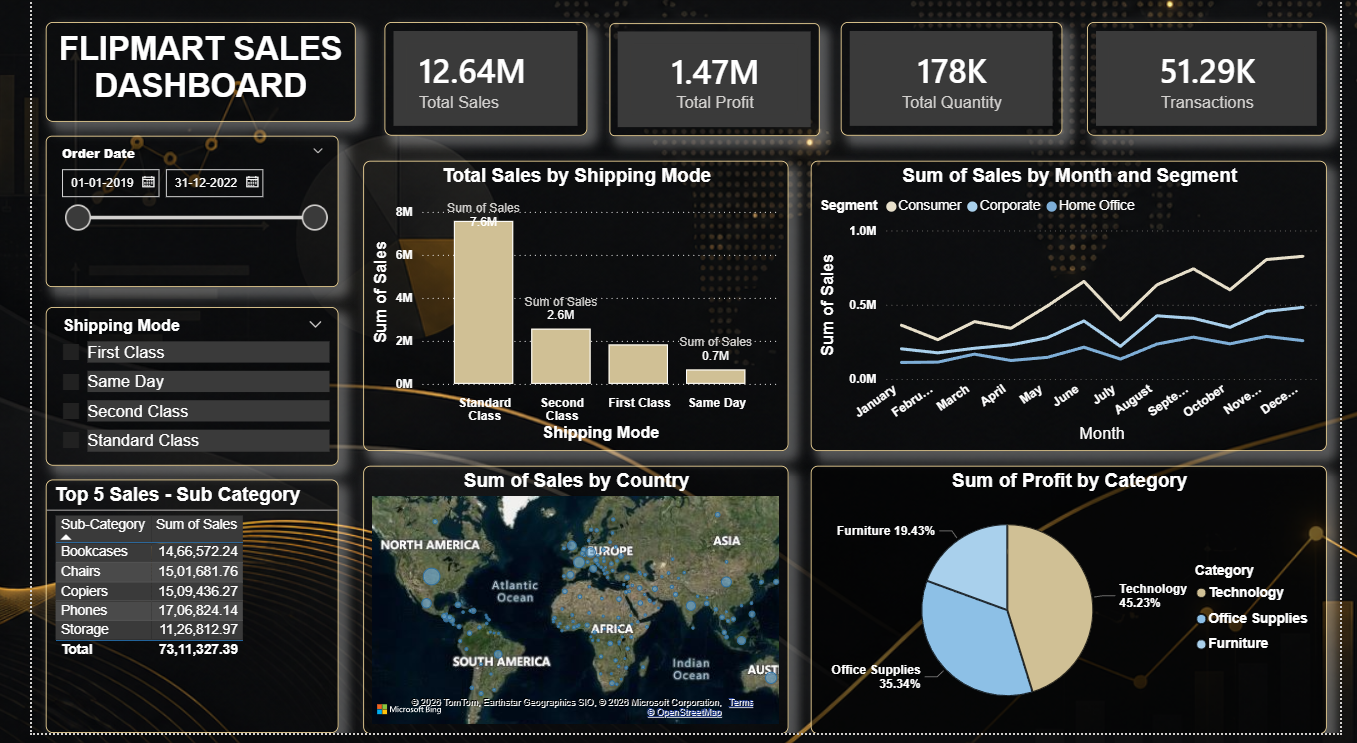

What the dashboard file says about the page in this screenshot:
{"tool":"powerbi","page":{"name":"Page 1","canvas":[1280,720],"ordinal":0},"visuals":[{"type":"textbox","box":[13.7,24.7,303.3,97.4],"z":0},{"type":"slicer","fields":{"Values":["Sales.Order Date"]},"box":[13.7,135.8,286.8,148.2],"z":1000},{"type":"slicer","fields":{"Values":["Sales.Shipping Mode"]},"box":[13.7,303.3,286.8,155.1],"z":2000},{"type":"tableEx","title":"Top 5 Sales - Sub Category","fields":{"Values":["Sales.Sub-Category","Sum(Sales.Sales)"]},"box":[13.7,472,286.8,248.4],"z":3000},{"type":"cardVisual","fields":{"Data":["Sum(Sales.Profit)"]},"box":[564.9,25.7,205.4,110.1],"z":4000},{"type":"cardVisual","fields":{"Data":["Sum(Sales.Quantity)"]},"box":[791.2,24.5,216.4,111.3],"z":5000},{"type":"clusteredColumnChart","title":"Total Sales by Shipping Mode","fields":{"Category":["Sales.Shipping Mode"],"Y":["Sum(Sales.Sales)"]},"box":[323.8,160.5,415.8,284],"z":6000},{"type":"lineChart","fields":{"Category":["Sales.Order Date.Variation.Date Hierarchy.Month"],"Y":["Sum(Sales.Sales)"],"Series":["Sales.Segment"]},"box":[761.6,160.5,505,284],"z":7000},{"type":"map","fields":{"Category":["Sales.Country"],"Size":["Sum(Sales.Sales)"]},"box":[323.8,458.3,415.8,262.1],"z":8000},{"type":"pieChart","fields":{"Category":["Sales.Category"],"Y":["Sum(Sales.Profit)"]},"box":[761.6,458.3,505,262.1],"z":9000},{"type":"cardVisual","fields":{"Data":["Sum(Sales.Sales)"]},"box":[344.8,24.5,198.1,111.3],"z":10000},{"type":"cardVisual","fields":{"Data":["CountNonNull(Sales.Order ID)"]},"box":[1032.1,24.5,234.8,111.3],"z":11000}]}

Visuals, with their boxes in screenshot pixels (x1, y1, x2, y2), scaled from the page's 1280x720 canvas onto the 1357x743 screenshot:
textbox: 15/25/336/126
slicer - Sales.Order Date: 15/140/319/293
slicer - Sales.Shipping Mode: 15/313/319/473
"Top 5 Sales - Sub Category" tableEx: 15/487/319/742
cardVisual - Sum(Sales.Profit): 599/27/817/140
cardVisual - Sum(Sales.Quantity): 839/25/1068/140
"Total Sales by Shipping Mode" clusteredColumnChart: 343/166/784/459
lineChart - Sales.Order Date.Variation.Date Hierarchy.Month x Sum(Sales.Sales): 807/166/1343/459
map - Sales.Country x Sum(Sales.Sales): 343/473/784/742
pieChart - Sales.Category x Sum(Sales.Profit): 807/473/1343/742
cardVisual - Sum(Sales.Sales): 366/25/576/140
cardVisual - CountNonNull(Sales.Order ID): 1094/25/1343/140
